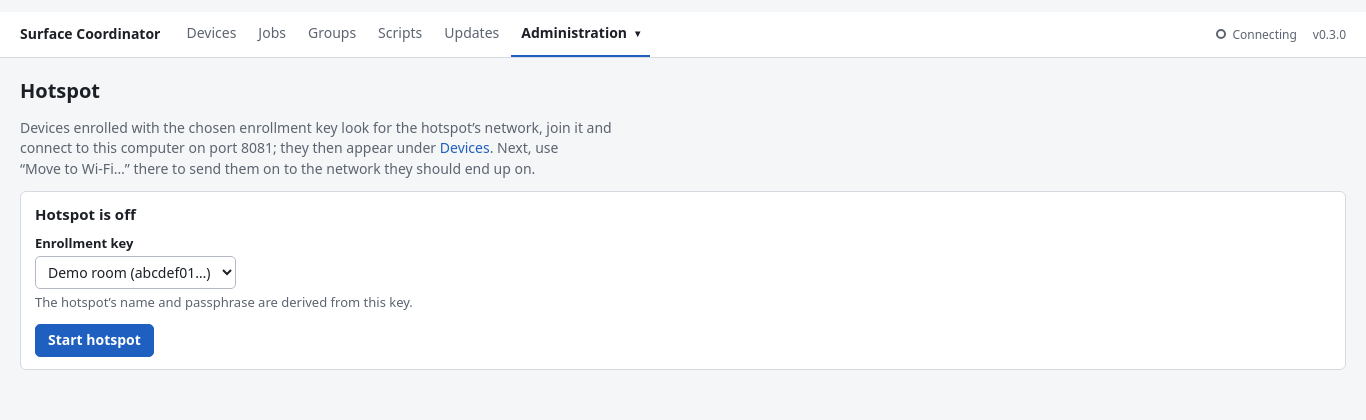
Test case: Hotspot, errors › shows key_revoked inline
What coordinates should you click on to do the following:
click the button "Start hotspot"
I would click on:
 (94, 340)
Its box is [35,324,154,357].
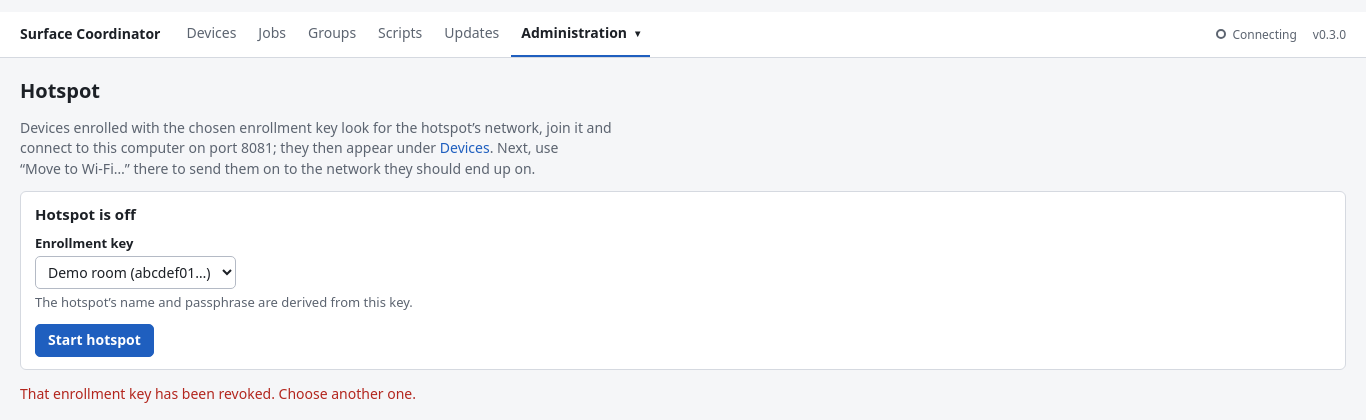
Check: the message shows "enrollment key has been revoked", box [20,384,416,403]
